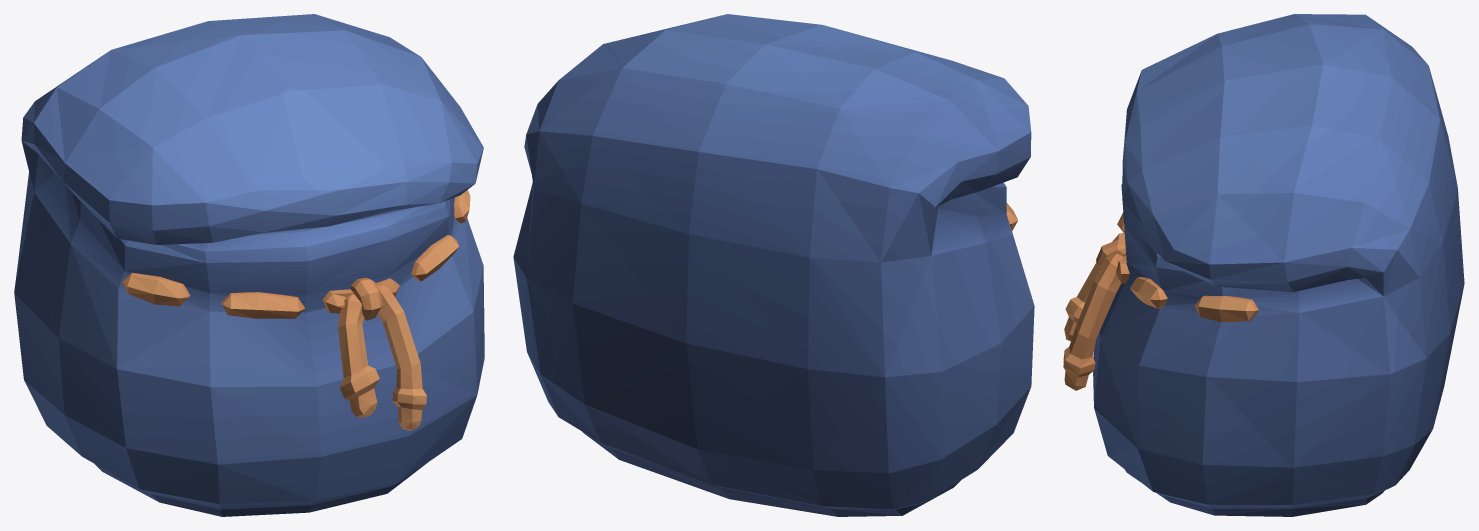
Rendered from CharSkyKid_Prop_MantaFloat.glb.
The picture shows the model from 3 angles, left to right: view 1: azimuth 30°, elevation 25°; view 2: azimuth 150°, elevation 25°; view 3: azimuth 270°, elevation 25°; orthographic projection. The views are drawn at different scales.
Visible parts, largest first — view 1: CharSkyKid_Prop_MantaFloat; view 2: CharSkyKid_Prop_MantaFloat; view 3: CharSkyKid_Prop_MantaFloat.
Boxes of the visible parts, left/top/right/bottom form: CharSkyKid_Prop_MantaFloat: left=14, top=14, right=484, bottom=516; CharSkyKid_Prop_MantaFloat: left=513, top=14, right=1034, bottom=516; CharSkyKid_Prop_MantaFloat: left=1063, top=14, right=1464, bottom=516.
Bounding box in the file's own units: 3.41 × 3.29 × 3.
1 material, 1 textured.
